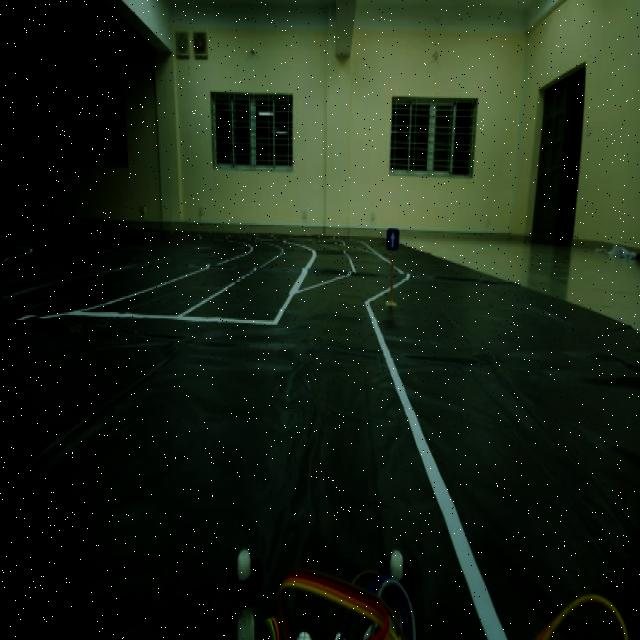onewayroad: (383, 224, 402, 254)
